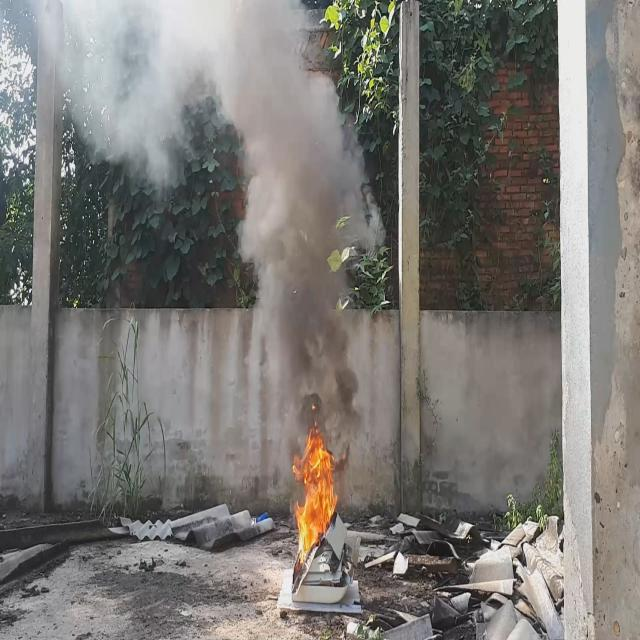Fire: (291, 414, 339, 571)
Smoke: (23, 0, 386, 455)
